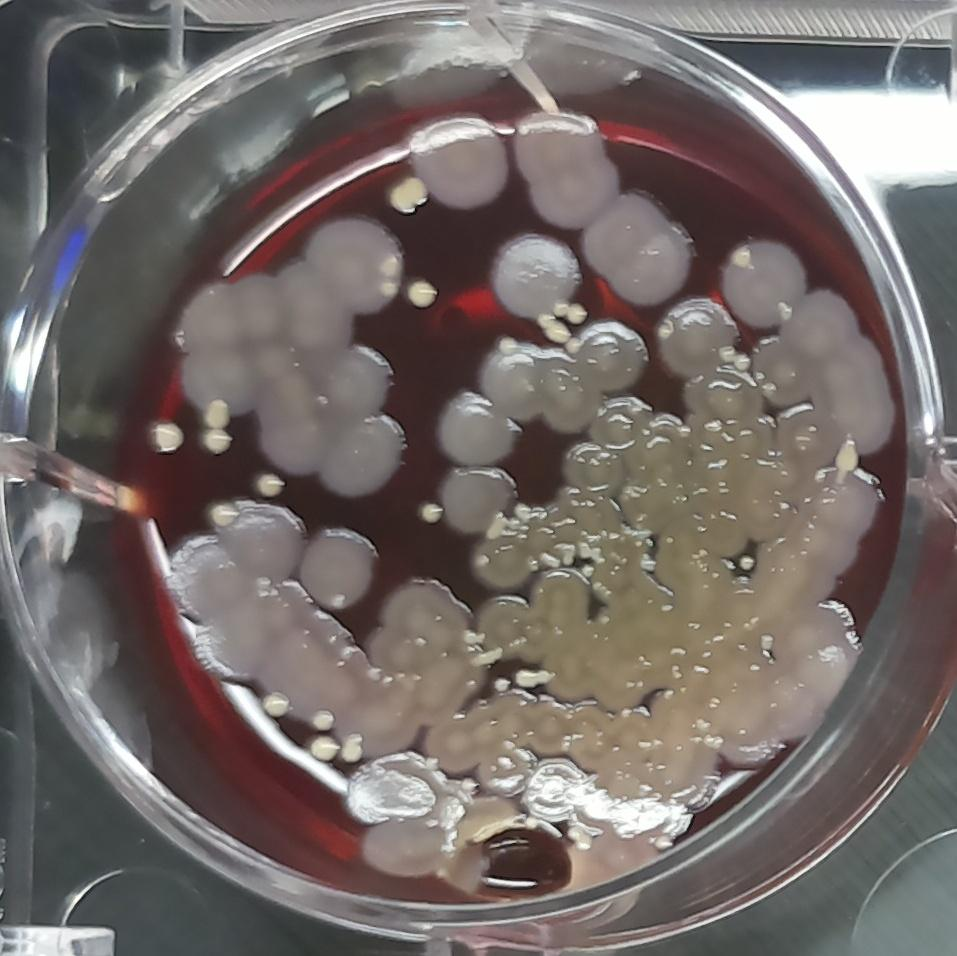staphylo-: (388, 173, 429, 220), (145, 417, 186, 456), (406, 275, 443, 311), (253, 468, 288, 505), (200, 396, 232, 431), (535, 312, 571, 343), (307, 733, 340, 762), (835, 438, 861, 473), (203, 426, 233, 456), (262, 689, 292, 719), (512, 667, 552, 688), (342, 729, 365, 765), (419, 497, 445, 528), (566, 826, 592, 854), (206, 501, 236, 525), (309, 709, 337, 734), (485, 513, 509, 540), (727, 246, 752, 270), (577, 541, 603, 561), (378, 277, 400, 299), (539, 551, 562, 571), (498, 337, 520, 356), (653, 832, 672, 853), (568, 303, 588, 322), (717, 344, 736, 364), (737, 555, 757, 573), (553, 299, 571, 318), (733, 352, 751, 371), (562, 544, 575, 566), (514, 501, 530, 518), (580, 562, 597, 578), (640, 558, 659, 572), (760, 633, 775, 650), (495, 678, 511, 692)
